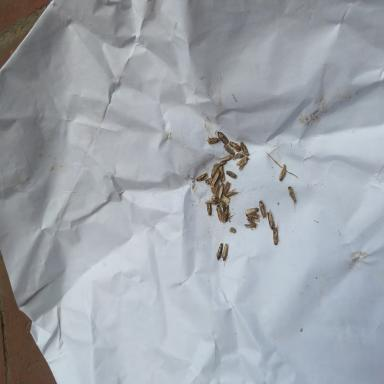pbw: (216, 130, 230, 144), (221, 243, 229, 266), (287, 186, 297, 204), (258, 198, 267, 218), (271, 225, 279, 246), (266, 209, 274, 230), (210, 170, 220, 186), (223, 143, 235, 156), (236, 157, 249, 169), (243, 218, 256, 230), (216, 204, 224, 223), (215, 242, 223, 261), (279, 163, 287, 182), (240, 141, 250, 156), (218, 164, 226, 182), (222, 204, 230, 222), (195, 171, 208, 182), (246, 212, 260, 222), (210, 162, 218, 179), (230, 141, 242, 152), (217, 182, 224, 200), (231, 151, 245, 160), (244, 207, 259, 215), (225, 170, 237, 180), (225, 188, 238, 197), (219, 194, 231, 203), (219, 154, 232, 162), (206, 137, 219, 145), (204, 197, 219, 203), (215, 182, 220, 200), (207, 199, 212, 216), (210, 184, 216, 198), (217, 198, 224, 208), (225, 180, 229, 195), (215, 159, 227, 164), (205, 177, 212, 185)
